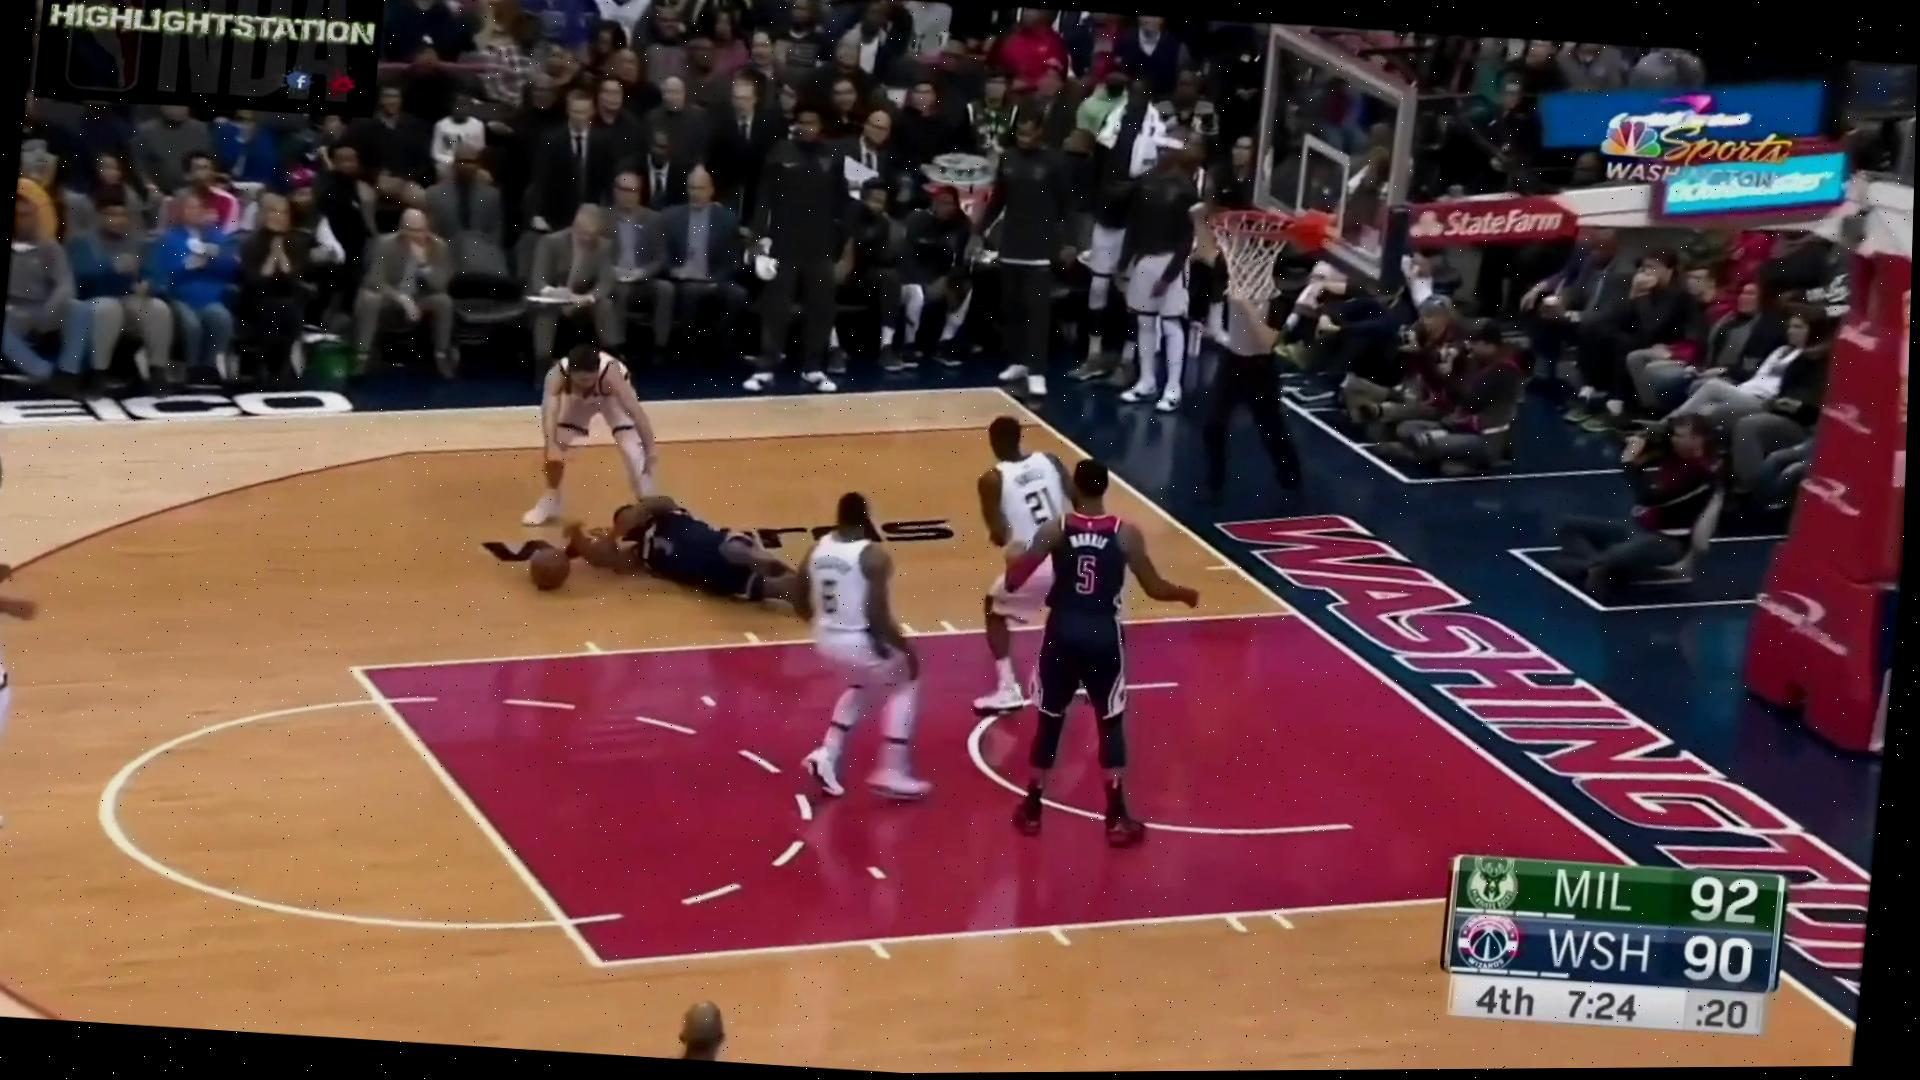no_foul: (939, 407, 1203, 827)
